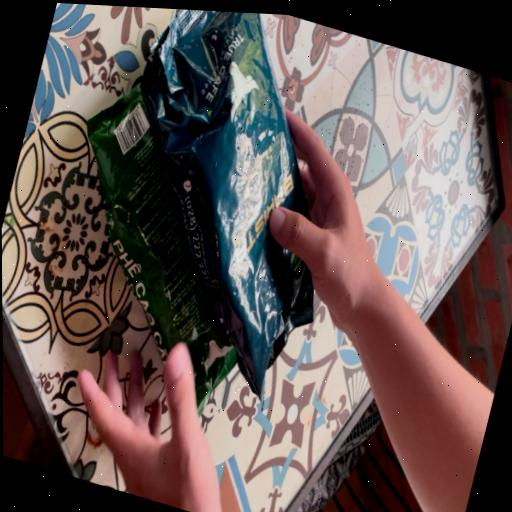cafe_hat: (87, 86, 236, 407)
cafe_xay: (140, 9, 313, 398)
